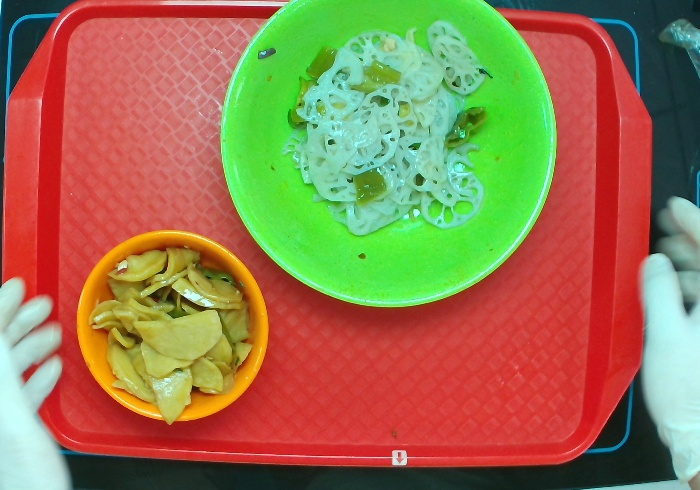YKMZ-Ju_Se_Yuan_Wan: (74, 230, 269, 426)
YKMZ-Lv_Se_Tang_Wan: (221, 1, 558, 307)
